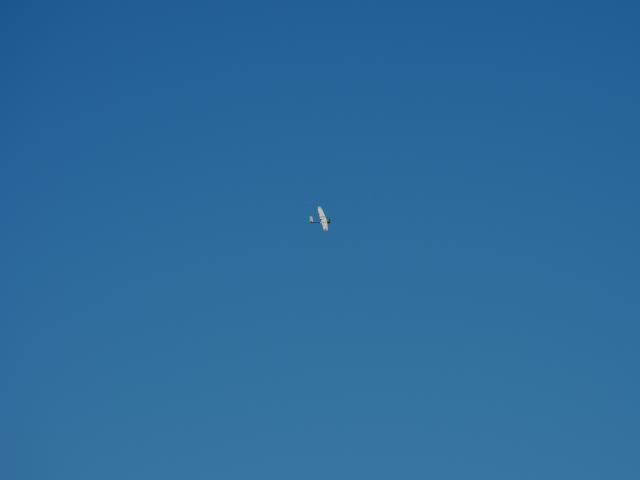iha: (300, 204, 340, 233)
